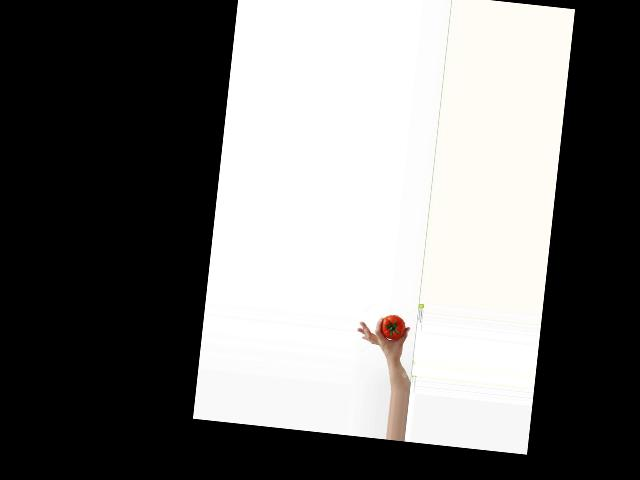tomato: (379, 314, 406, 341)
